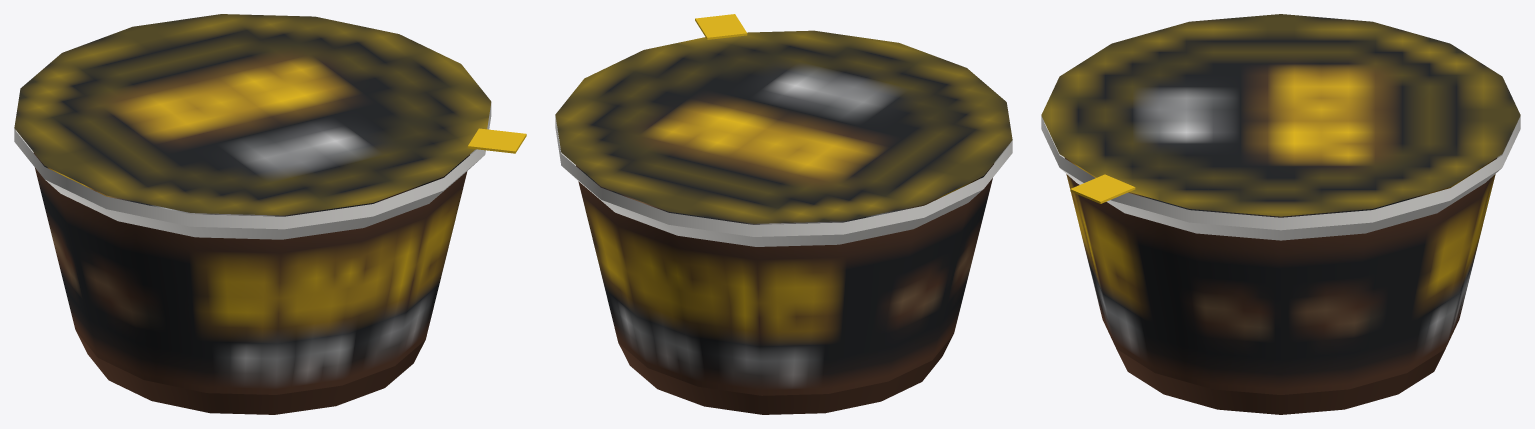
File: SC_Prod_CupRamen_Big_Jjajang.gltf
The picture shows the model from 3 angles, left to right: view 1: azimuth 30°, elevation 25°; view 2: azimuth 150°, elevation 25°; view 3: azimuth 270°, elevation 25°; orthographic projection. The views are drawn at different scales.
Visible parts, largest first — view 1: SC_Prod_CupRamen_Big_Jjajang; view 2: SC_Prod_CupRamen_Big_Jjajang; view 3: SC_Prod_CupRamen_Big_Jjajang.
Boxes of the visible parts, x1,y1,x2,y2 form: SC_Prod_CupRamen_Big_Jjajang: (14,14,526,414); SC_Prod_CupRamen_Big_Jjajang: (555,14,1012,414); SC_Prod_CupRamen_Big_Jjajang: (1041,14,1520,414).
Size of the model in its own units: 0.156 by 0.0833 by 0.156.
Materials: 2 (2 with a texture image).
